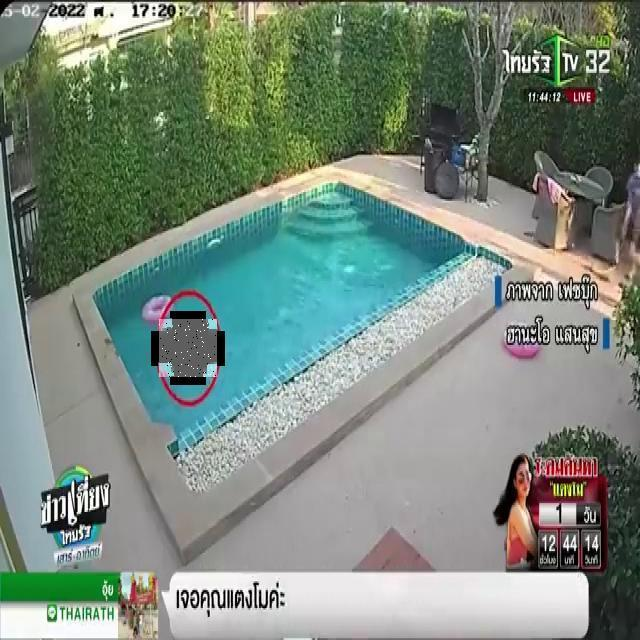Out of Water: (159, 319, 217, 377)
